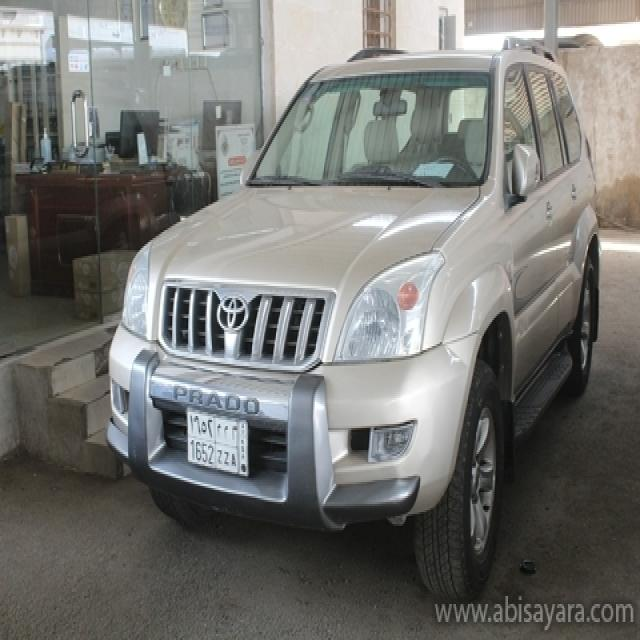license_plate: (185, 406, 251, 480)
